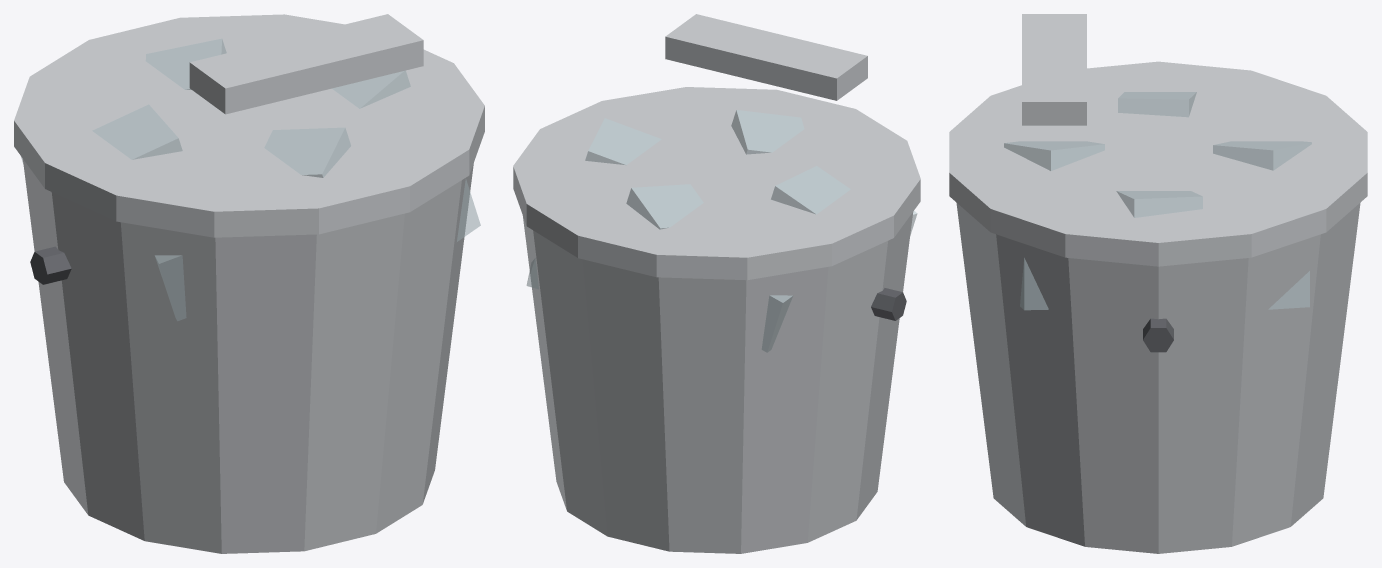
The model's file is izakaya-alley-and-ramen-shop-ice-bucket-291596c2__36440.glb.
3 renders of one model, left to right at view 1: azimuth 30°, elevation 25°; view 2: azimuth 150°, elevation 25°; view 3: azimuth 270°, elevation 25°, orthographic. The views are drawn at different scales.
Visible parts, largest first — view 1: ice-bucket-steel, ice-bucket-glass, ice-bucket-charcoal; view 2: ice-bucket-steel, ice-bucket-glass, ice-bucket-charcoal; view 3: ice-bucket-steel, ice-bucket-glass, ice-bucket-charcoal.
Boxes of the visible parts, box(x1,y1,x2,y2) form: ice-bucket-steel: box(14, 14, 484, 553); ice-bucket-glass: box(21, 38, 480, 320); ice-bucket-charcoal: box(30, 246, 71, 284); ice-bucket-steel: box(513, 14, 920, 553); ice-bucket-glass: box(526, 110, 917, 352); ice-bucket-charcoal: box(871, 288, 906, 320); ice-bucket-steel: box(949, 14, 1367, 553); ice-bucket-glass: box(1004, 92, 1311, 310); ice-bucket-charcoal: box(1143, 318, 1173, 352).
Bounding box in the file's own units: 0.34 × 0.36 × 0.3217.
